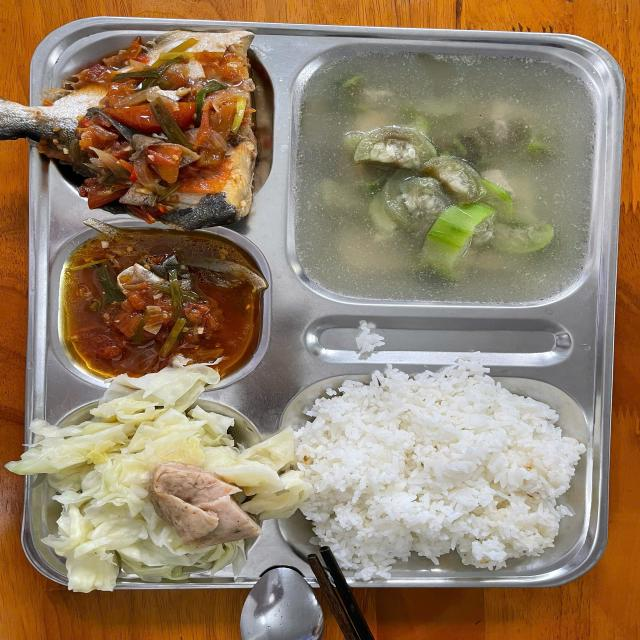cahoi: (23, 22, 274, 228), (64, 236, 261, 380)
cailuoc: (5, 361, 307, 597)
canhmuop: (303, 55, 594, 302)
salad: (303, 379, 585, 564)
